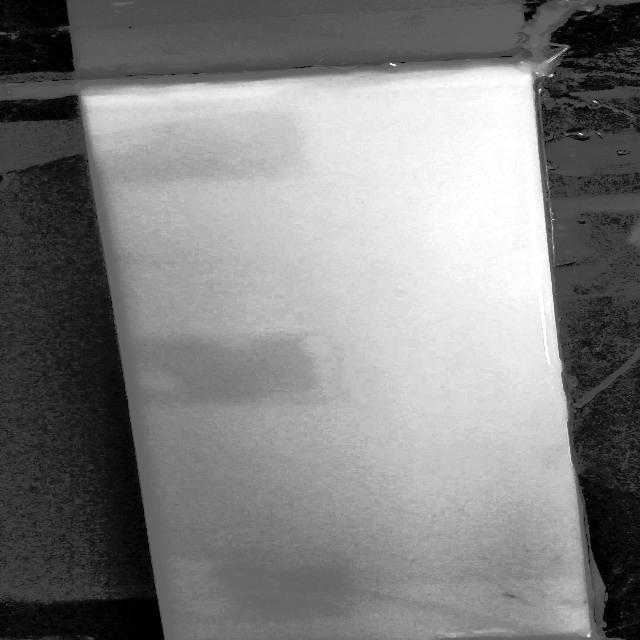shrimp: (488, 582, 541, 606)
